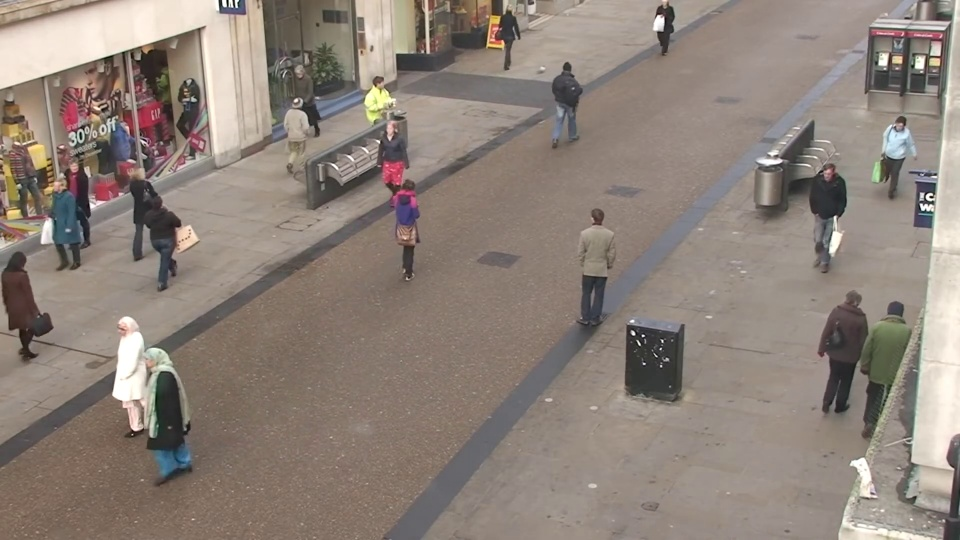pedestrian: (120, 343, 183, 496), (90, 310, 152, 454), (866, 288, 925, 431), (2, 241, 64, 368), (826, 278, 880, 417), (31, 179, 84, 289), (144, 183, 190, 294), (51, 157, 100, 261), (800, 165, 842, 274), (133, 156, 177, 260), (578, 203, 616, 323), (874, 114, 918, 213), (396, 172, 435, 283), (369, 123, 404, 220), (289, 90, 321, 177), (368, 71, 398, 154), (851, 15, 885, 88), (282, 65, 312, 145), (559, 53, 585, 132), (500, 2, 523, 66)
